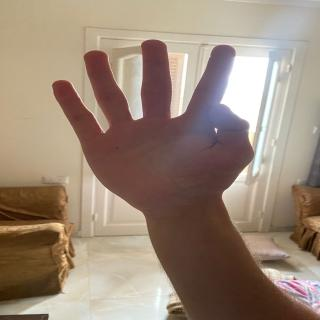SHEEN: (50, 30, 277, 209)
